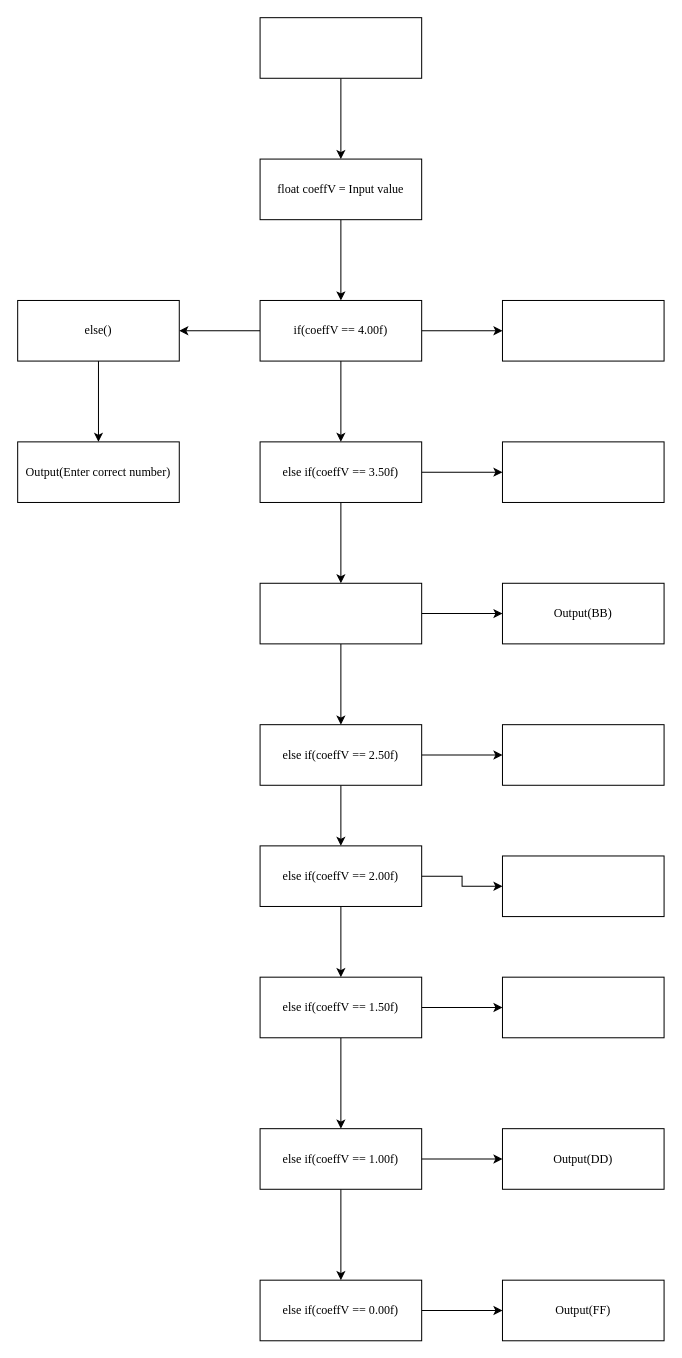
This 682x1358 diagram has some shape labels left out. Here are the shapes that lost their labels. From the top down, the centre of each, then its label:
the point at 340,47: Start
the point at 582,330: Output(AA)
the point at 582,471: Output(BA)
the point at 340,613: else if(coeffV == 3.00f)
the point at 582,754: Output(CB)
the point at 582,886: Output(CC)
the point at 582,1007: Output(DC)
